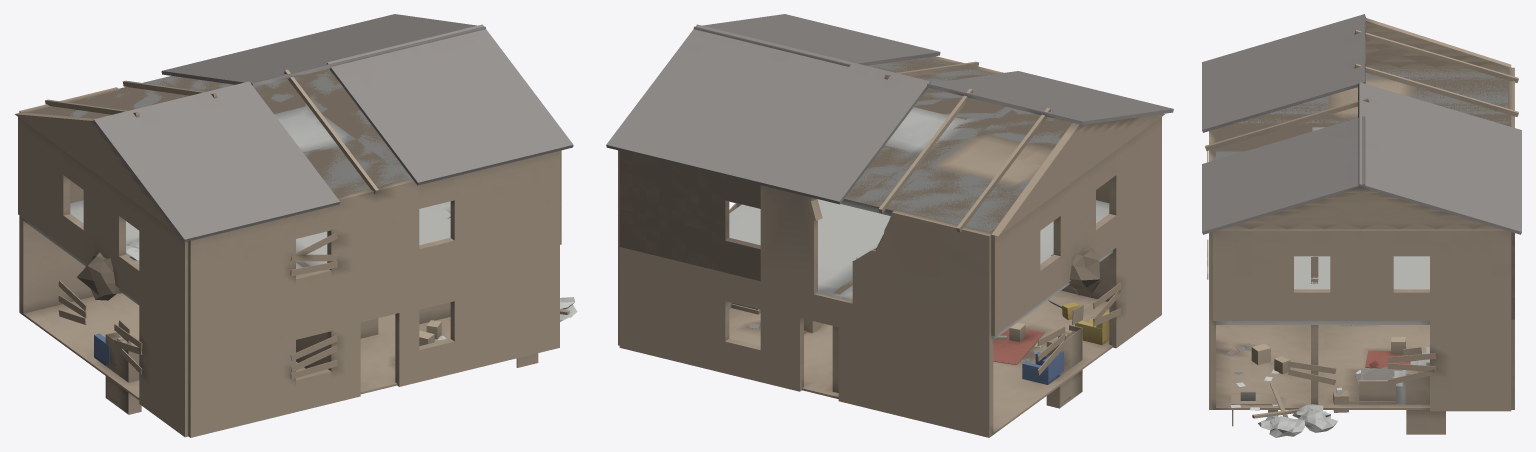
File: casa_r10.glb
The picture shows the model from 3 angles, left to right: view 1: azimuth 30°, elevation 25°; view 2: azimuth 150°, elevation 25°; view 3: azimuth 270°, elevation 25°; orthographic projection. The views are drawn at different scales.
Parts seen in each view (by area): view 1: telhado, ext1_0, ext0_0, ext1_3, forro, chao, laje2, ext0_3, telhado_oitao0, ext0_2, laje1, telhado_vigas (+8 smaller); view 2: telhado, ext0_2, ext1_2, ext1_3, forro, laje2, chao, laje1, ext0_3, telhado_oitao0, telhado_vigas, estante_sala1 (+7 smaller); view 3: telhado, ext1_1, chao, ext0_1, forro, telhado_oitao2, laje2, telhado_oitao0, laje1, telhado_vigas, entulho_fora, guarda_roupa_fundo2 (+12 smaller).
Boxes of the visible parts, x1,y1,x2,y2 form: telhado: (93, 14, 573, 242); ext1_0: (188, 151, 559, 336); ext0_0: (188, 247, 559, 437); ext1_3: (18, 111, 188, 336); forro: (28, 69, 407, 197); chao: (21, 293, 450, 399); laje2: (69, 69, 412, 195); ext0_3: (77, 252, 188, 437); telhado_oitao0: (14, 112, 176, 232); ext0_2: (19, 215, 93, 315); laje1: (21, 200, 450, 305); telhado_vigas: (45, 69, 378, 194); telhado: (606, 14, 1173, 204); ext0_2: (619, 247, 993, 437); ext1_2: (619, 151, 991, 336); ext1_3: (988, 117, 1161, 336); forro: (844, 57, 1071, 231); laje2: (841, 57, 1067, 232); chao: (729, 290, 1112, 434); laje1: (729, 199, 1112, 339); ext0_3: (1051, 214, 1161, 348); telhado_oitao0: (991, 114, 1164, 236); telhado_vigas: (878, 61, 1050, 232); estante_sala1: (1046, 325, 1082, 408); telhado: (1202, 14, 1521, 234); ext1_1: (1212, 229, 1511, 320); chao: (1213, 325, 1429, 409); ext0_1: (1430, 321, 1511, 411); forro: (1216, 67, 1511, 151); telhado_oitao2: (1222, 188, 1501, 229); laje2: (1212, 68, 1511, 160); telhado_oitao0: (1365, 18, 1511, 67); laje1: (1213, 256, 1429, 324); telhado_vigas: (1205, 30, 1518, 150); entulho_fora: (1252, 381, 1337, 437); guarda_roupa_fundo2: (1406, 370, 1445, 434).
Size of what is drawn, in the model's own units: 14.13 by 8.61 by 9.63.
